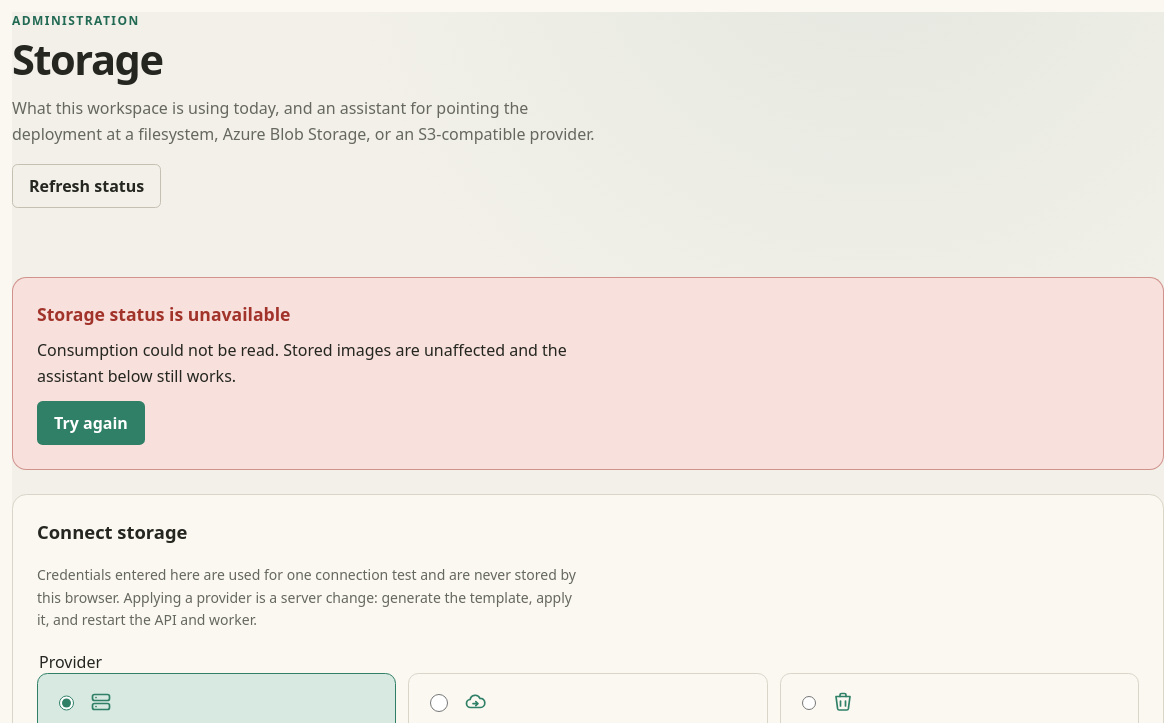
Scenario: storage status › retries a failed status read without losing the assistant
The width and height of the screenshot is (1164, 723).
Check: the heading "Storage status is unavailable" is shown, box [37, 302, 290, 326]
Check: the radio button labelled "Local filesystem" is shown, box [59, 694, 74, 712]
Click the button "Try again": (91, 423) [37, 401, 145, 445]
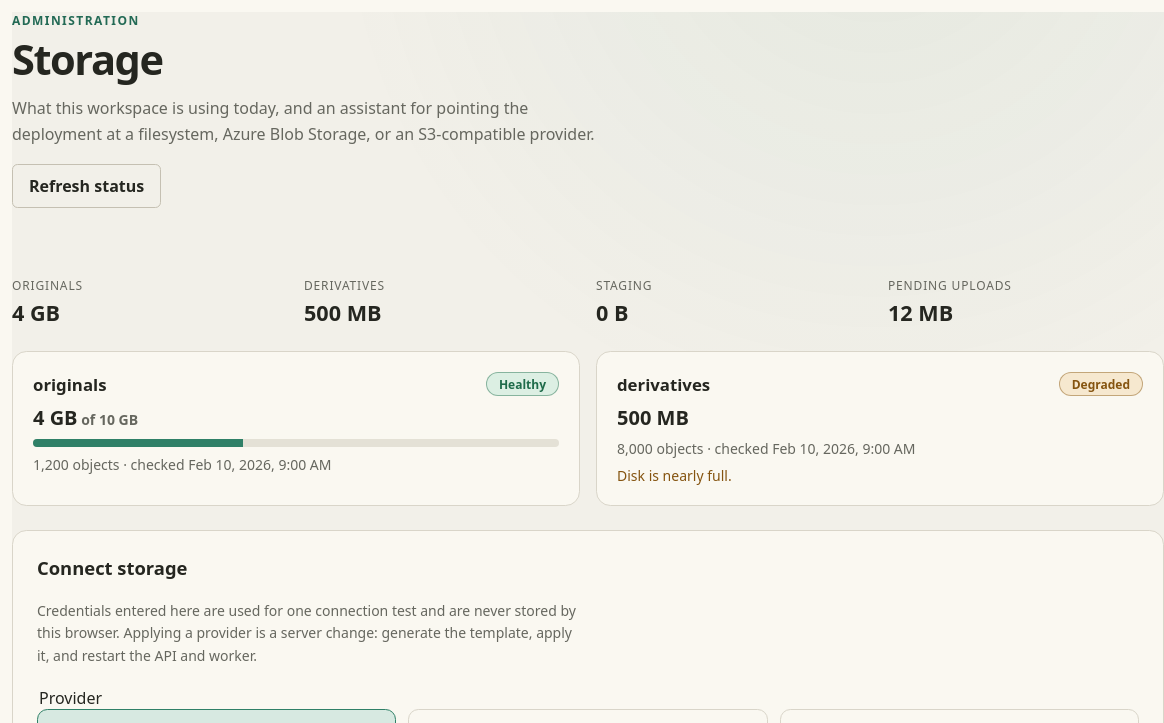
Check: the text "Disk is nearly full." is shown, box [617, 466, 732, 485]
